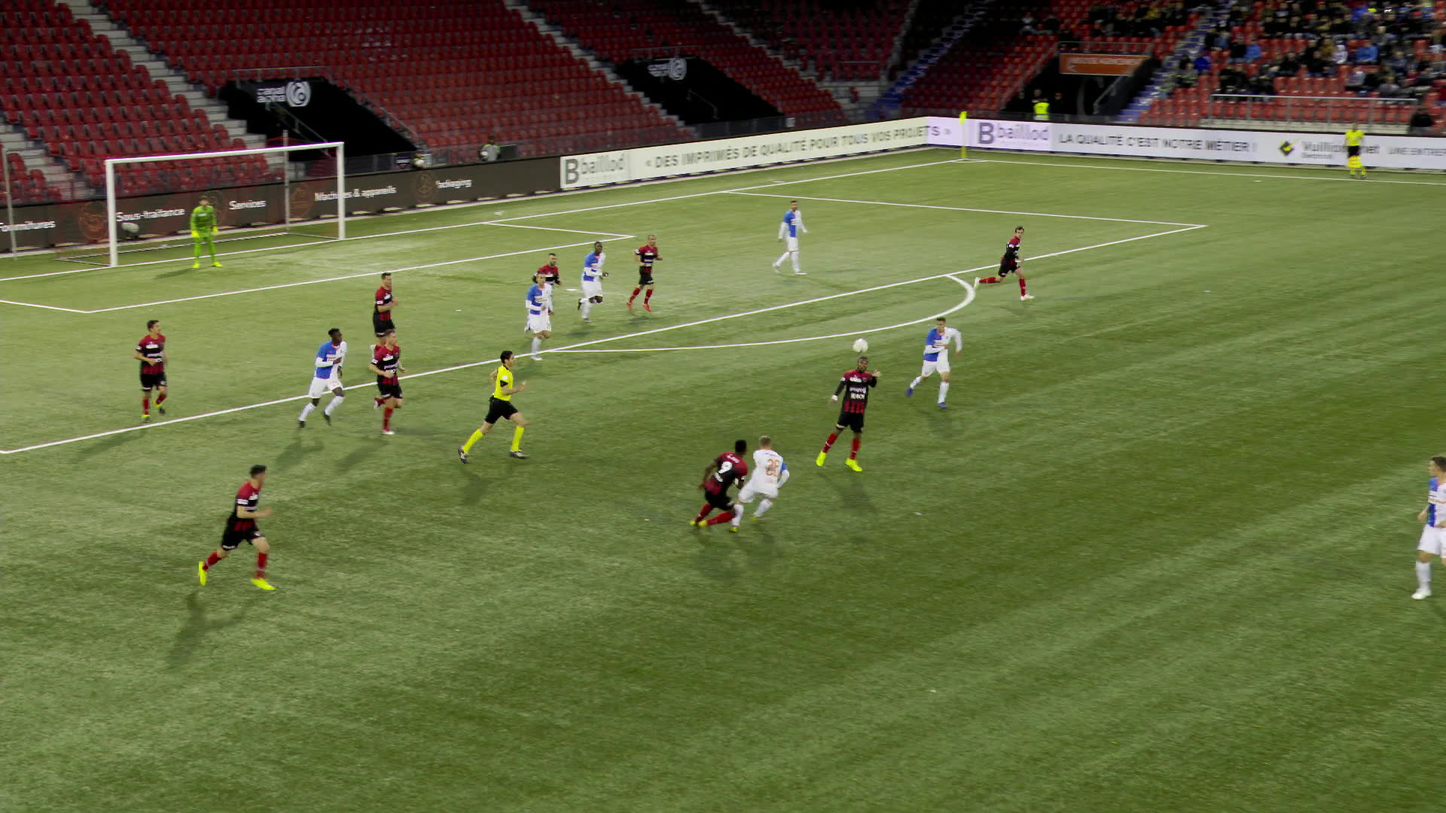ball: (851, 340, 867, 355)
player: (187, 462, 277, 594), (724, 434, 793, 531), (823, 358, 879, 473), (290, 326, 348, 431), (694, 440, 751, 534), (1411, 452, 1445, 601), (910, 316, 960, 410), (365, 327, 404, 433), (974, 227, 1028, 303), (134, 315, 171, 423), (622, 233, 664, 311), (365, 269, 398, 368), (573, 238, 611, 322), (520, 270, 554, 359), (775, 199, 810, 276), (192, 196, 224, 269), (530, 251, 562, 297)
referee: (453, 350, 530, 463), (1342, 122, 1368, 177)
